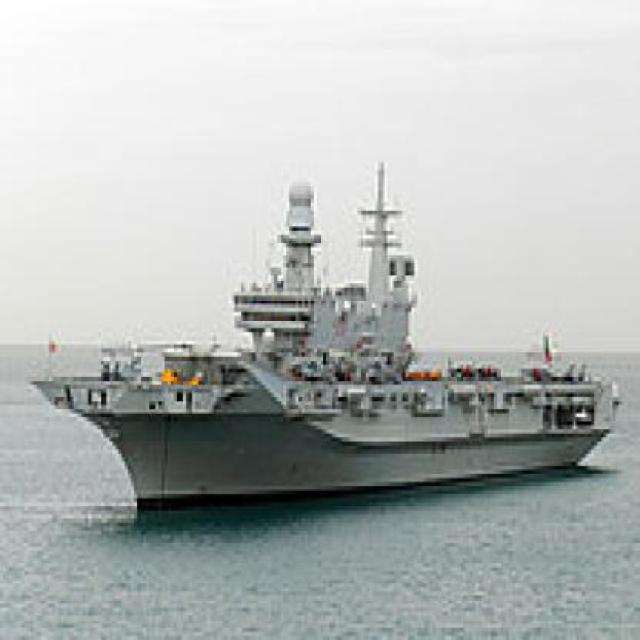warship2: (69, 158, 640, 527)
